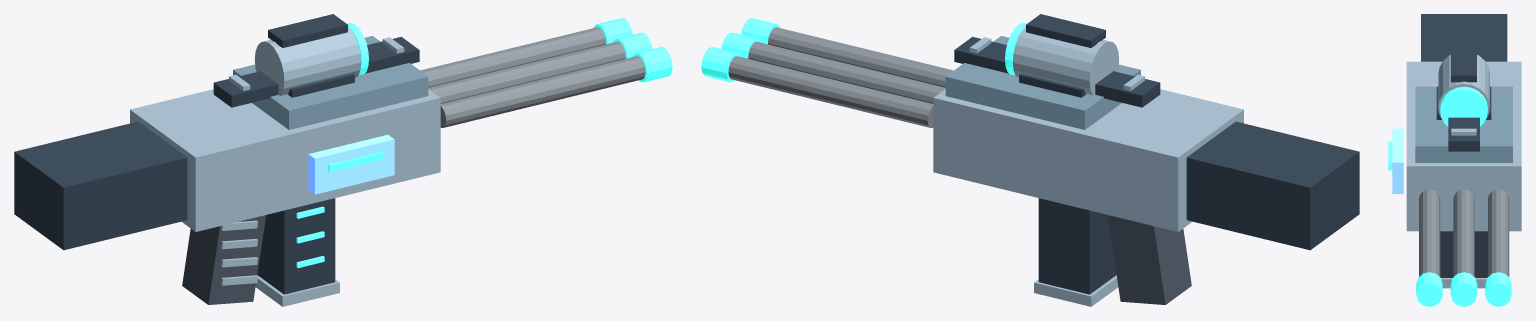
The model's file is burst.glb.
3 renders of one model, left to right at view 1: azimuth 30°, elevation 25°; view 2: azimuth 150°, elevation 25°; view 3: azimuth 270°, elevation 25°, orthographic. The views are drawn at different scales.
Parts seen in each view (by area): view 1: Burst_Receiver, Burst_Stock, Ion_Chamber, MAGAZINE, Ion_Barrel_0.12, Burst_Grip, Burst_Holo_tube, Ion_Barrel_0, Ion_Barrel_-0.12, Energy_Battery, Upper_Rail, Burst_Holo_rail (+7 smaller); view 2: Burst_Receiver, Burst_Stock, MAGAZINE, Ion_Chamber, Burst_Grip, Ion_Barrel_-0.12, Burst_Holo_tube, Ion_Barrel_0, Ion_Barrel_0.12, Upper_Rail, Burst_Holo_rail, MAGAZINE_baseplate (+5 smaller); view 3: Burst_Receiver, Ion_Chamber, Burst_Stock, Ion_Barrel_0, Ion_Barrel_-0.12, Ion_Barrel_0.12, Burst_Holo_ring, MAGAZINE, Burst_Holo_tube, Upper_Rail, Burst_Holo_rail, Ion_Emitter_0 (+7 smaller).
Boxes of the visible parts, x1,y1,x2,y2 form: Burst_Receiver: [130, 89, 440, 231]; Burst_Stock: [14, 121, 187, 250]; Ion_Chamber: [233, 36, 428, 129]; MAGAZINE: [257, 198, 335, 294]; Ion_Barrel_0.12: [440, 56, 645, 127]; Burst_Grip: [182, 215, 266, 304]; Burst_Holo_tube: [254, 26, 361, 95]; Ion_Barrel_0: [428, 41, 625, 103]; Ion_Barrel_-0.12: [420, 27, 605, 87]; Energy_Battery: [308, 134, 394, 194]; Upper_Rail: [213, 36, 419, 107]; Burst_Holo_rail: [268, 14, 347, 47]; Burst_Receiver: [933, 89, 1243, 231]; Burst_Stock: [1186, 121, 1359, 250]; MAGAZINE: [1038, 198, 1116, 294]; Ion_Chamber: [945, 36, 1140, 129]; Burst_Grip: [1107, 215, 1191, 304]; Ion_Barrel_-0.12: [728, 56, 933, 127]; Burst_Holo_tube: [1012, 26, 1119, 95]; Ion_Barrel_0: [748, 41, 945, 103]; Ion_Barrel_0.12: [768, 27, 953, 87]; Upper_Rail: [954, 36, 1160, 107]; Burst_Holo_rail: [1026, 14, 1105, 47]; MAGAZINE_baseplate: [1034, 275, 1118, 306]; Burst_Receiver: [1406, 61, 1521, 231]; Ion_Chamber: [1415, 86, 1512, 162]; Burst_Stock: [1421, 14, 1507, 61]; Ion_Barrel_0: [1453, 189, 1474, 276]; Ion_Barrel_-0.12: [1488, 189, 1509, 276]; Ion_Barrel_0.12: [1419, 189, 1440, 276]; Burst_Holo_ring: [1440, 86, 1487, 126]; MAGAZINE: [1440, 231, 1487, 277]; Burst_Holo_tube: [1438, 55, 1489, 117]; Upper_Rail: [1448, 117, 1479, 151]; Burst_Holo_rail: [1451, 47, 1476, 82]; Ion_Emitter_0: [1450, 272, 1477, 306].
Size of the model in its own units: 2.13 by 0.8508 by 0.463.
